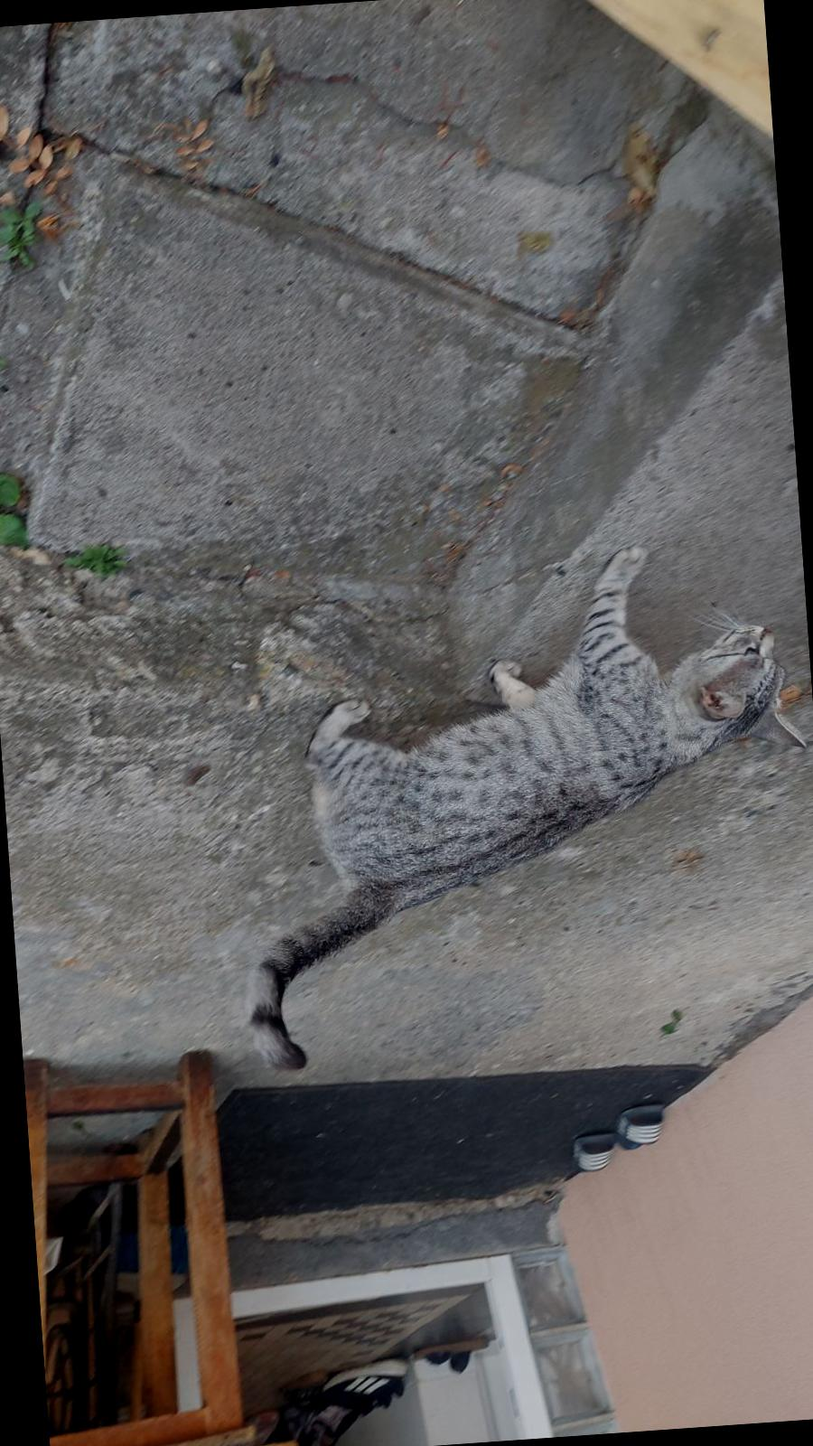macka: (215, 532, 813, 1074)
